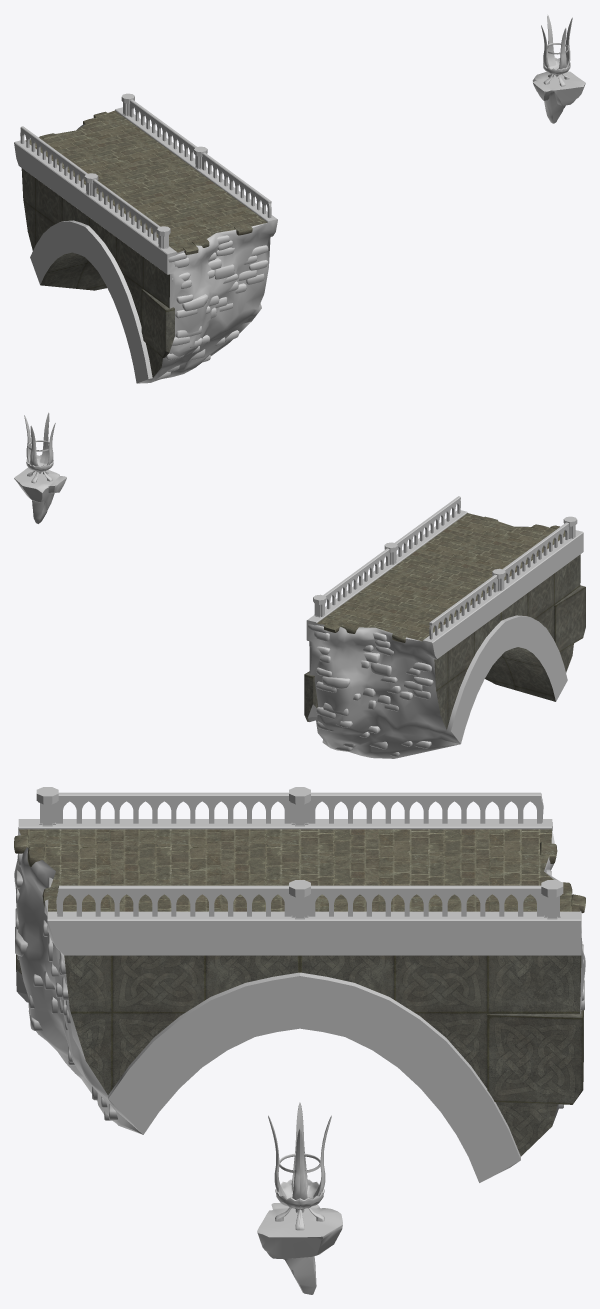
File: FloatingObj.fbx
The picture shows the model from 3 angles, top to bottom: view 1: azimuth 30°, elevation 25°; view 2: azimuth 150°, elevation 25°; view 3: azimuth 270°, elevation 25°; orthographic projection. The views are drawn at different scales.
Parts seen in each view (by area): view 1: bridge_destroyed_01, Mid_Rock_010_LOD0; view 2: bridge_destroyed_01, Mid_Rock_010_LOD0; view 3: bridge_destroyed_01, Mid_Rock_010_LOD0.
Part boxes in pixels (box(x1,y1,x2,y2)): bridge_destroyed_01: box(14, 93, 277, 383); Mid_Rock_010_LOD0: box(532, 14, 585, 123); bridge_destroyed_01: box(304, 496, 585, 758); Mid_Rock_010_LOD0: box(14, 412, 66, 523); bridge_destroyed_01: box(14, 787, 585, 1182); Mid_Rock_010_LOD0: box(257, 1102, 342, 1294).
Bounding box in the file's own units: 3142 × 1279 × 1814.
